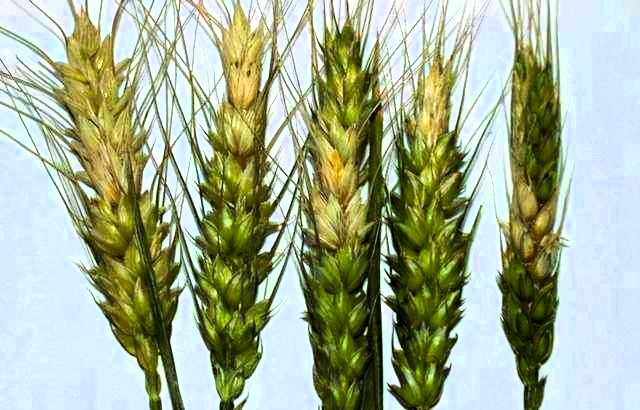Wheat scab: (47, 21, 188, 356), (295, 19, 390, 407)
